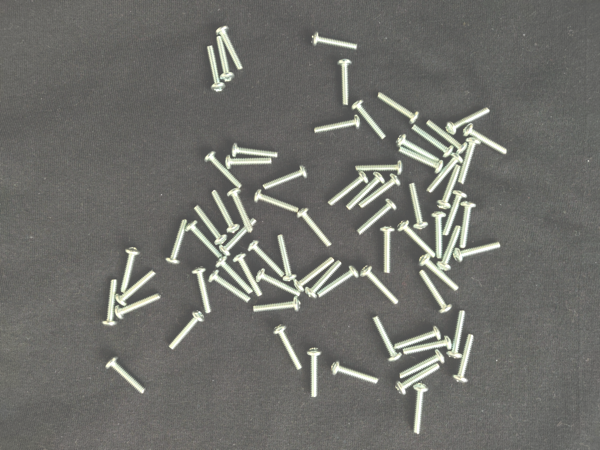longscrew: (355, 198, 399, 238), (116, 267, 158, 308), (359, 265, 401, 306), (395, 219, 438, 259), (103, 356, 147, 395), (345, 171, 386, 212), (425, 152, 465, 194), (167, 308, 206, 351), (359, 173, 403, 211), (418, 268, 453, 315), (214, 256, 255, 296), (184, 221, 226, 260), (418, 254, 461, 292), (294, 255, 337, 293), (327, 170, 370, 208), (410, 122, 455, 158), (219, 217, 259, 257), (305, 259, 344, 300), (395, 362, 442, 396), (202, 151, 244, 189), (371, 315, 404, 363), (316, 263, 360, 299), (425, 119, 469, 155), (376, 90, 421, 125), (114, 290, 163, 322), (272, 323, 304, 372), (295, 208, 334, 248), (351, 99, 388, 141), (462, 123, 509, 156), (208, 269, 252, 304), (192, 205, 229, 246), (398, 349, 446, 380), (248, 240, 287, 278), (233, 252, 265, 298), (210, 188, 241, 235), (446, 105, 493, 136), (214, 24, 244, 72), (255, 269, 304, 298), (395, 134, 443, 163), (226, 187, 255, 234), (441, 189, 468, 238), (394, 325, 443, 351), (457, 136, 483, 185), (452, 331, 476, 384), (436, 164, 463, 211), (330, 360, 380, 385), (437, 224, 463, 272), (397, 147, 445, 173), (262, 164, 309, 190), (165, 217, 189, 267), (453, 239, 503, 263), (445, 309, 468, 360), (253, 189, 301, 213), (191, 265, 214, 315), (204, 44, 227, 94), (119, 246, 142, 295), (215, 34, 238, 83), (403, 335, 453, 357), (276, 233, 298, 283), (312, 114, 362, 136), (407, 181, 429, 231), (411, 382, 431, 436), (309, 31, 359, 52), (252, 295, 302, 315), (458, 199, 478, 249), (101, 276, 119, 330), (306, 346, 323, 399), (355, 159, 405, 177), (380, 223, 397, 275), (336, 58, 353, 108), (224, 153, 276, 169), (432, 210, 448, 262), (229, 142, 280, 158)
